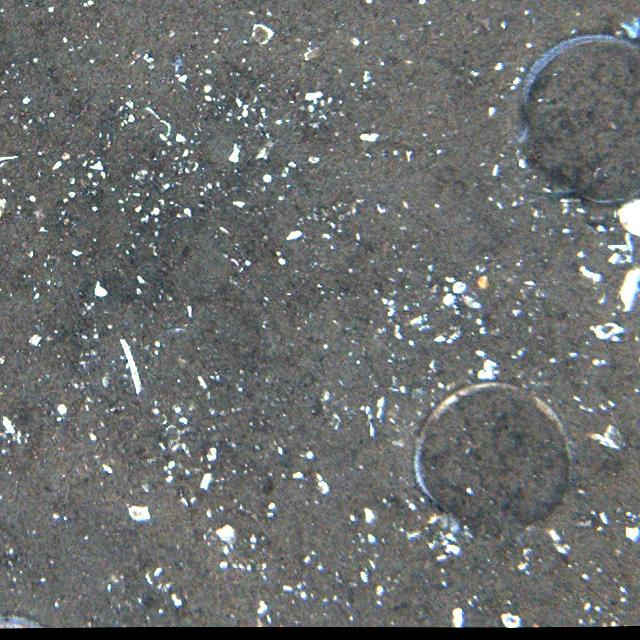scallop: (414, 382, 573, 539), (521, 37, 640, 199)
